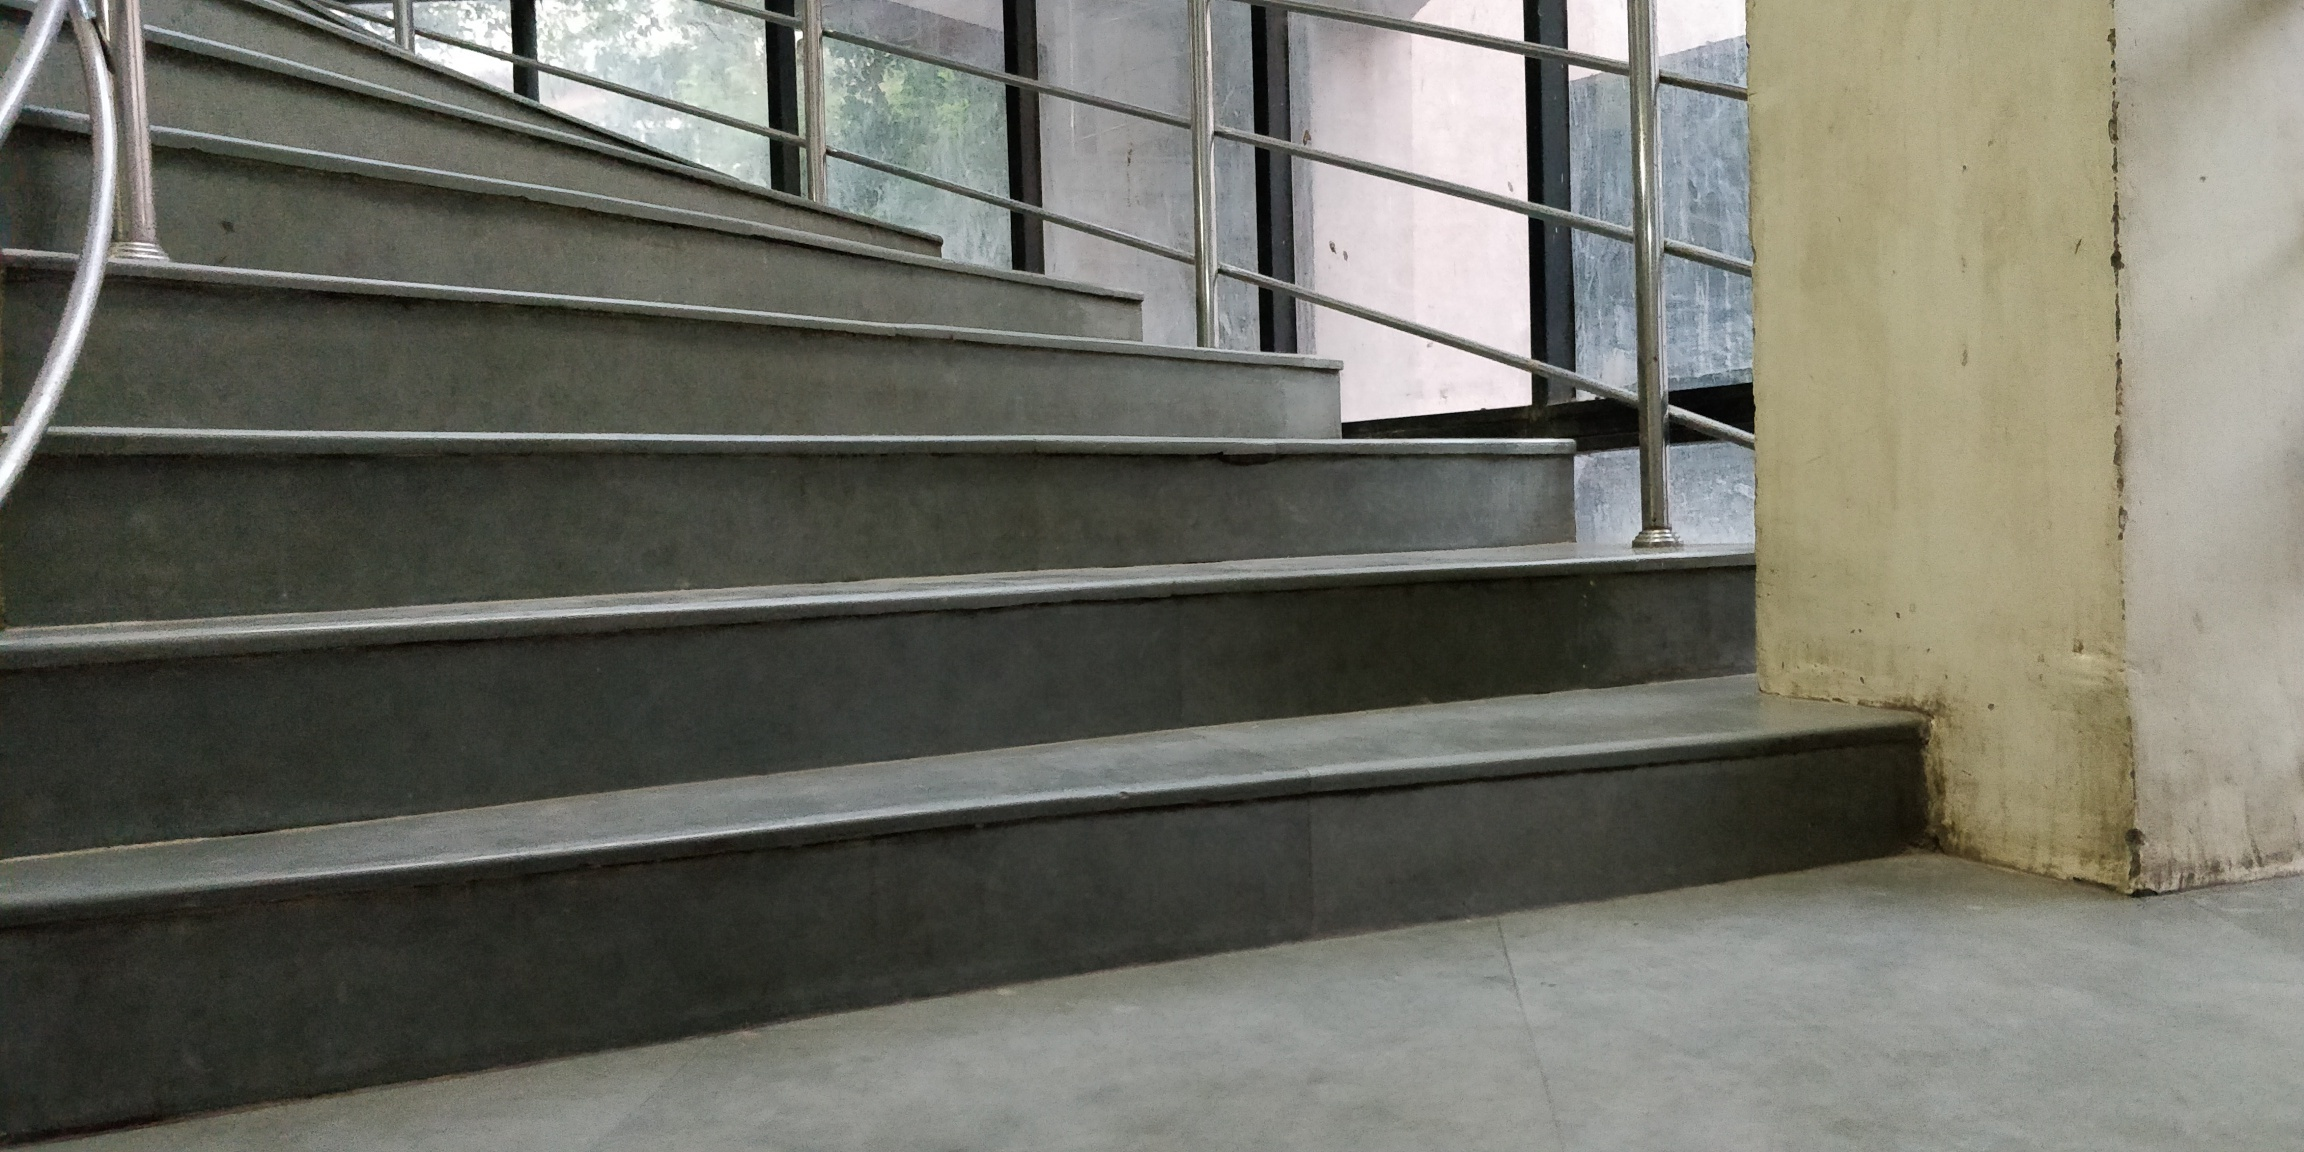stairs_up: (28, 35, 1934, 912)
